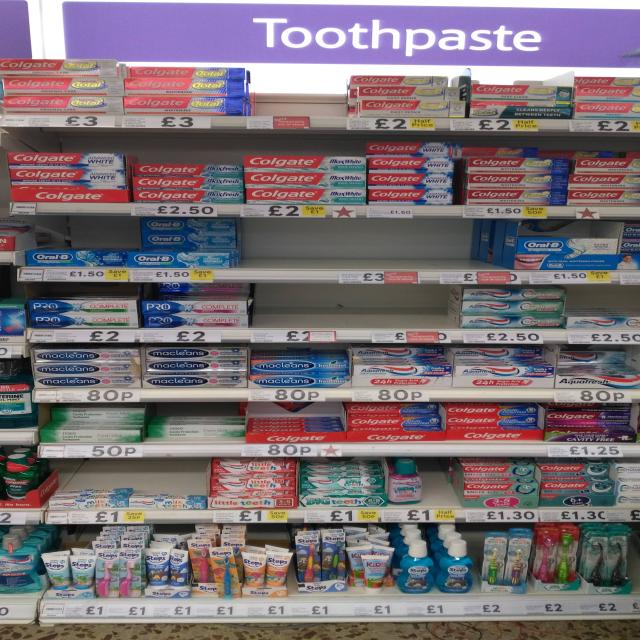empty: (238, 219, 471, 265), (248, 284, 453, 334), (246, 55, 348, 117), (423, 456, 457, 507)
